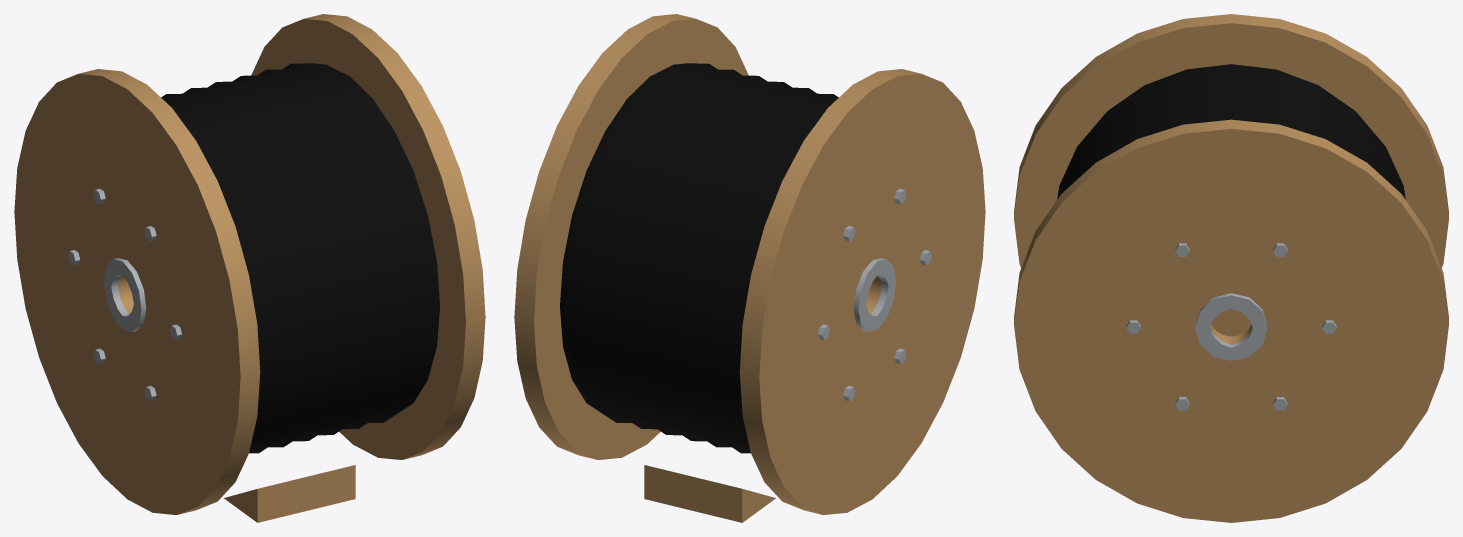
File: plant.store.cable_drum.glb
The picture shows the model from 3 angles, left to right: view 1: azimuth 30°, elevation 25°; view 2: azimuth 150°, elevation 25°; view 3: azimuth 270°, elevation 25°; orthographic projection. The views are drawn at different scales.
Parts seen in each view (by area): view 1: main__softwood, main__plastic_black, main__steel_galvanised; view 2: main__softwood, main__plastic_black, main__steel_galvanised; view 3: main__softwood, main__plastic_black, main__steel_galvanised.
Part boxes in pixels (left/top/right/bottom): main__softwood: left=14, top=14, right=485, bottom=522; main__plastic_black: left=161, top=63, right=439, bottom=453; main__steel_galvanised: left=68, top=188, right=181, bottom=401; main__softwood: left=514, top=14, right=985, bottom=522; main__plastic_black: left=560, top=63, right=838, bottom=453; main__steel_galvanised: left=818, top=188, right=931, bottom=401; main__softwood: left=1014, top=14, right=1448, bottom=522; main__plastic_black: left=1057, top=64, right=1405, bottom=199; main__steel_galvanised: left=1126, top=243, right=1336, bottom=410.
Size of the model in its own units: 0.78 by 1.2 by 1.2.
